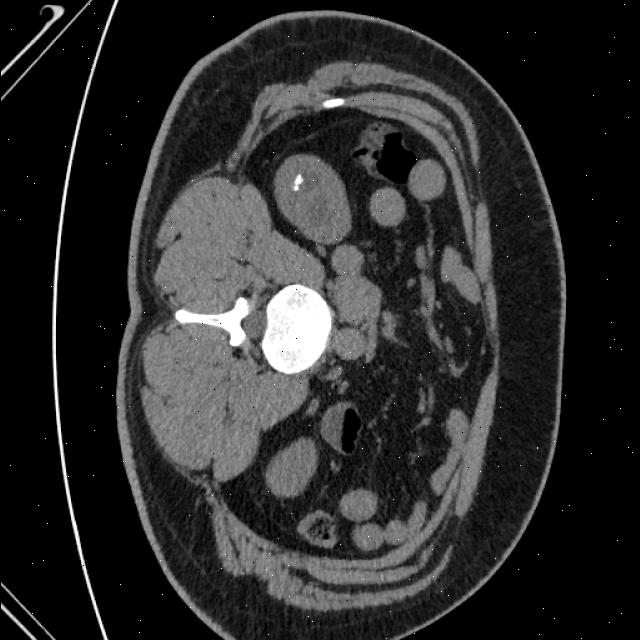kidneystone: (292, 174, 302, 191)
